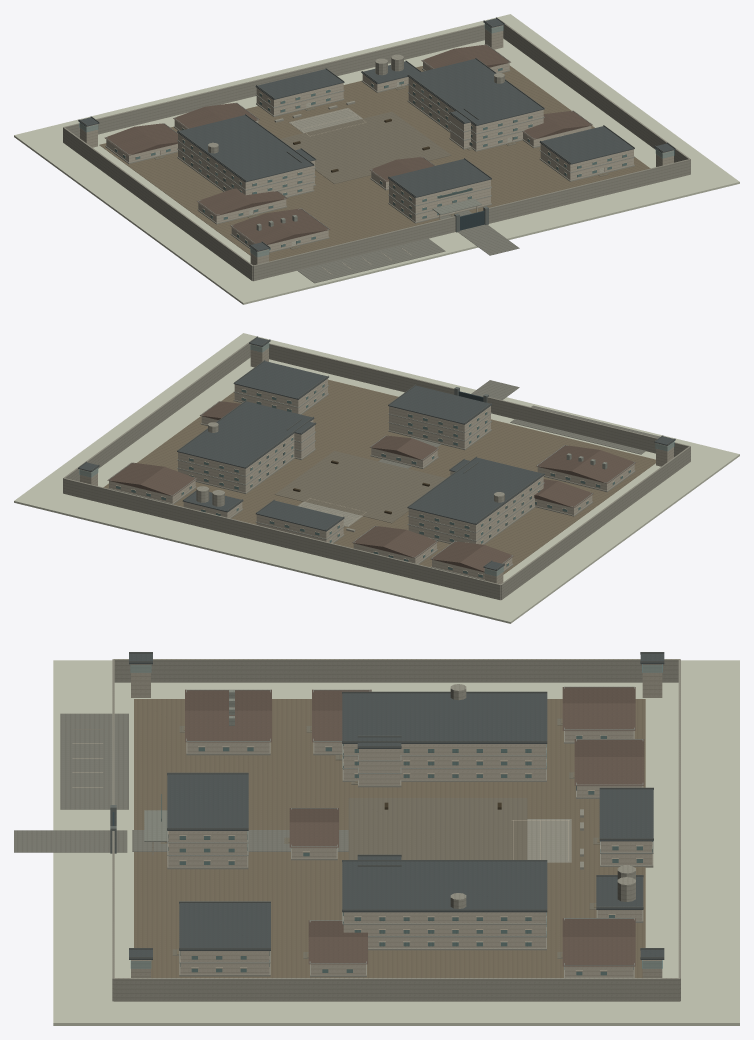
File: LRP02_exterior.gltf
3 views of the same model, one above another, from view 1: azimuth 30°, elevation 25°; view 2: azimuth 150°, elevation 25°; view 3: azimuth 270°, elevation 25° (orthographic). The views are drawn at different scales.
Parts seen in each view (by area): view 1: TERRENO_250x200_PROXY, PISO_NUCLEO_INSTITUCIONAL, PATIOS_SUPERFICIE, PERIMETRO_MURO_TRAS, PAVILHAO_02_COBERTURA, PAVILHAO_01_COBERTURA, PERIMETRO_MURO_FRENTE_1, PERIMETRO_MURO_FRENTE_-1, PERIMETRO_MURO_LATERAL_-1, PERIMETRO_MURO_LATERAL_1, ENTORNO_ACESSO_ESTACIONAMENTO, ADMINISTRACAO_COBERTURA (+22 smaller); view 2: TERRENO_250x200_PROXY, PISO_NUCLEO_INSTITUCIONAL, PERIMETRO_MURO_TRAS, PATIOS_SUPERFICIE, PAVILHAO_02_COBERTURA, PAVILHAO_01_COBERTURA, PERIMETRO_MURO_LATERAL_-1, PERIMETRO_MURO_LATERAL_1, PERIMETRO_MURO_FRENTE_-1, PERIMETRO_MURO_FRENTE_1, COZINHA_INDUSTRIAL_COBERTURA_FECHADA, ADMINISTRACAO_COBERTURA (+19 smaller); view 3: TERRENO_250x200_PROXY, PISO_NUCLEO_INSTITUCIONAL, PERIMETRO_MURO_LATERAL_1, PERIMETRO_MURO_LATERAL_-1, PATIOS_SUPERFICIE, PAVILHAO_02_COBERTURA, PAVILHAO_01_COBERTURA, ENTORNO_ACESSO_ESTACIONAMENTO, PAVILHAO_02_R02C_PAREDE_XPOS, PAVILHAO_01_R02C_PAREDE_XPOS, ADMINISTRACAO_COBERTURA, COZINHA_INDUSTRIAL_COBERTURA_FECHADA (+23 smaller).
Part boxes in pixels (left/top/right/bottom): TERRENO_250x200_PROXY: left=14, top=14, right=739, bottom=304; PISO_NUCLEO_INSTITUCIONAL: left=99, top=65, right=650, bottom=261; PATIOS_SUPERFICIE: left=280, top=111, right=451, bottom=183; PERIMETRO_MURO_TRAS: left=63, top=24, right=484, bottom=137; PAVILHAO_02_COBERTURA: left=407, top=59, right=544, bottom=125; PAVILHAO_01_COBERTURA: left=177, top=115, right=314, bottom=182; PERIMETRO_MURO_FRENTE_1: left=489, top=159, right=690, bottom=223; PERIMETRO_MURO_FRENTE_-1: left=253, top=216, right=455, bottom=281; PERIMETRO_MURO_LATERAL_-1: left=63, top=127, right=252, bottom=280; PERIMETRO_MURO_LATERAL_1: left=501, top=20, right=690, bottom=173; ENTORNO_ACESSO_ESTACIONAMENTO: left=297, top=238, right=445, bottom=283; ADMINISTRACAO_COBERTURA: left=388, top=159, right=491, bottom=197; TERRENO_250x200_PROXY: left=14, top=333, right=739, bottom=623; PISO_NUCLEO_INSTITUCIONAL: left=103, top=379, right=655, bottom=574; PERIMETRO_MURO_TRAS: left=63, top=478, right=500, bottom=600; PATIOS_SUPERFICIE: left=275, top=451, right=446, bottom=523; PAVILHAO_02_COBERTURA: left=177, top=401, right=314, bottom=468; PAVILHAO_01_COBERTURA: left=407, top=457, right=544, bottom=524; PERIMETRO_MURO_LATERAL_-1: left=500, top=446, right=690, bottom=599; PERIMETRO_MURO_LATERAL_1: left=63, top=339, right=252, bottom=492; PERIMETRO_MURO_FRENTE_-1: left=487, top=397, right=690, bottom=456; PERIMETRO_MURO_FRENTE_1: left=269, top=343, right=454, bottom=394; COZINHA_INDUSTRIAL_COBERTURA_FECHADA: left=536, top=445, right=636, bottom=483; ADMINISTRACAO_COBERTURA: left=388, top=385, right=491, bottom=424; TERRENO_250x200_PROXY: left=53, top=660, right=739, bottom=1025; PISO_NUCLEO_INSTITUCIONAL: left=134, top=699, right=645, bottom=977; PERIMETRO_MURO_LATERAL_1: left=113, top=978, right=679, bottom=1001; PERIMETRO_MURO_LATERAL_-1: left=113, top=659, right=679, bottom=682; PATIOS_SUPERFICIE: left=348, top=798, right=527, bottom=859; PAVILHAO_02_COBERTURA: left=342, top=861, right=547, bottom=912; PAVILHAO_01_COBERTURA: left=342, top=693, right=547, bottom=743; ENTORNO_ACESSO_ESTACIONAMENTO: left=60, top=713, right=128, bottom=809; PAVILHAO_02_R02C_PAREDE_XPOS: left=343, top=912, right=545, bottom=948; PAVILHAO_01_R02C_PAREDE_XPOS: left=343, top=744, right=545, bottom=780; ADMINISTRACAO_COBERTURA: left=167, top=774, right=248, bottom=830; COZINHA_INDUSTRIAL_COBERTURA_FECHADA: left=185, top=689, right=271, bottom=742.
Bounding box in the file's own units: 250 × 16.92 × 212.
Materials: 7 (5 with a texture image).
